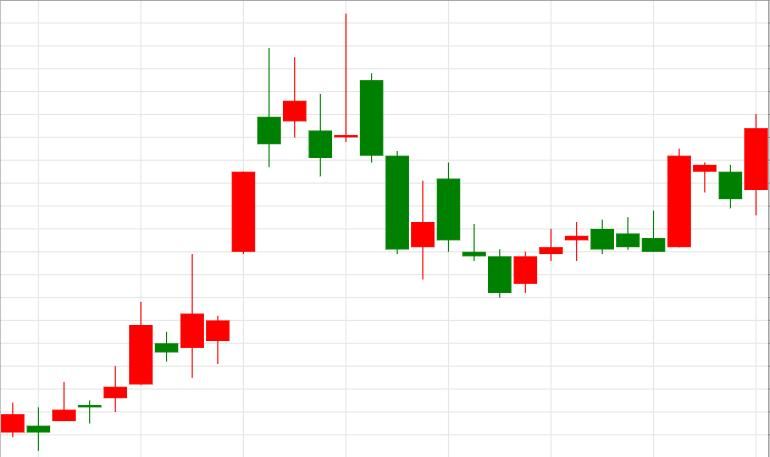shooting_star_fall: (129, 48, 307, 386), (129, 48, 281, 385)
